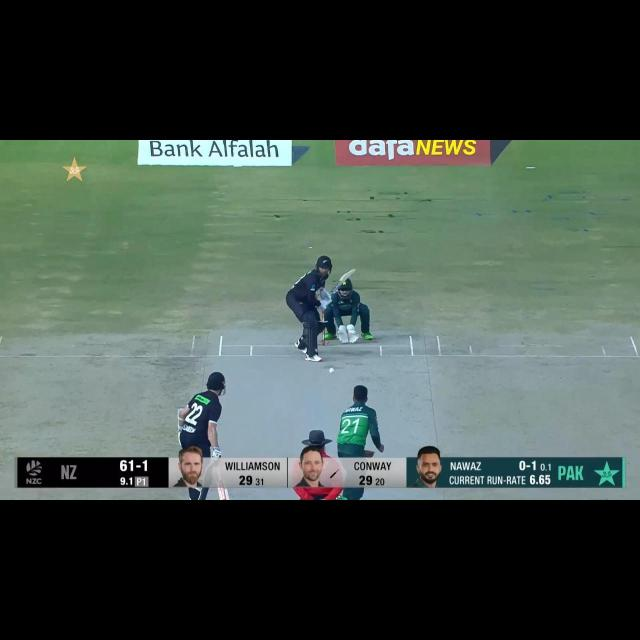bat: (327, 265, 356, 300), (218, 487, 231, 500)
toe: (346, 267, 357, 280), (218, 494, 230, 500)
